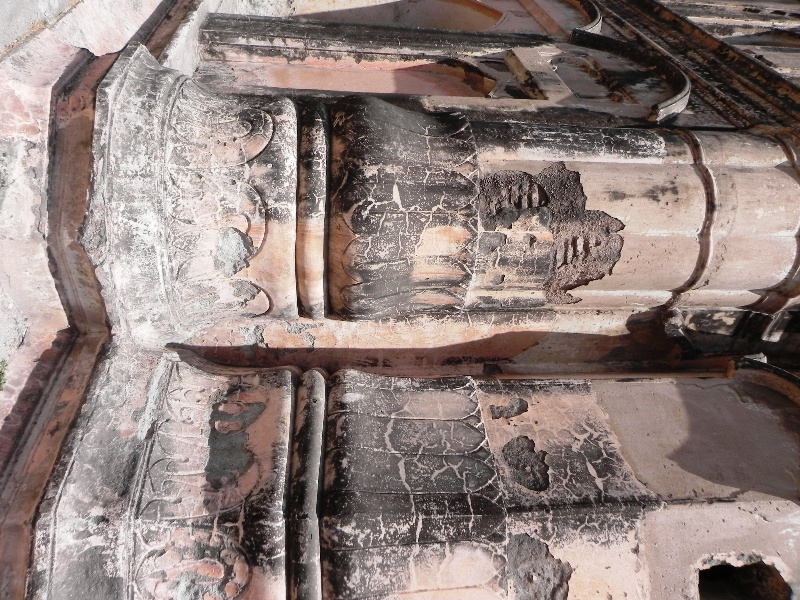Exposed Bricks: (489, 174, 552, 218), (556, 230, 610, 265)
Spalling: (507, 525, 577, 600), (497, 429, 559, 493), (202, 424, 254, 490), (480, 388, 539, 425)
